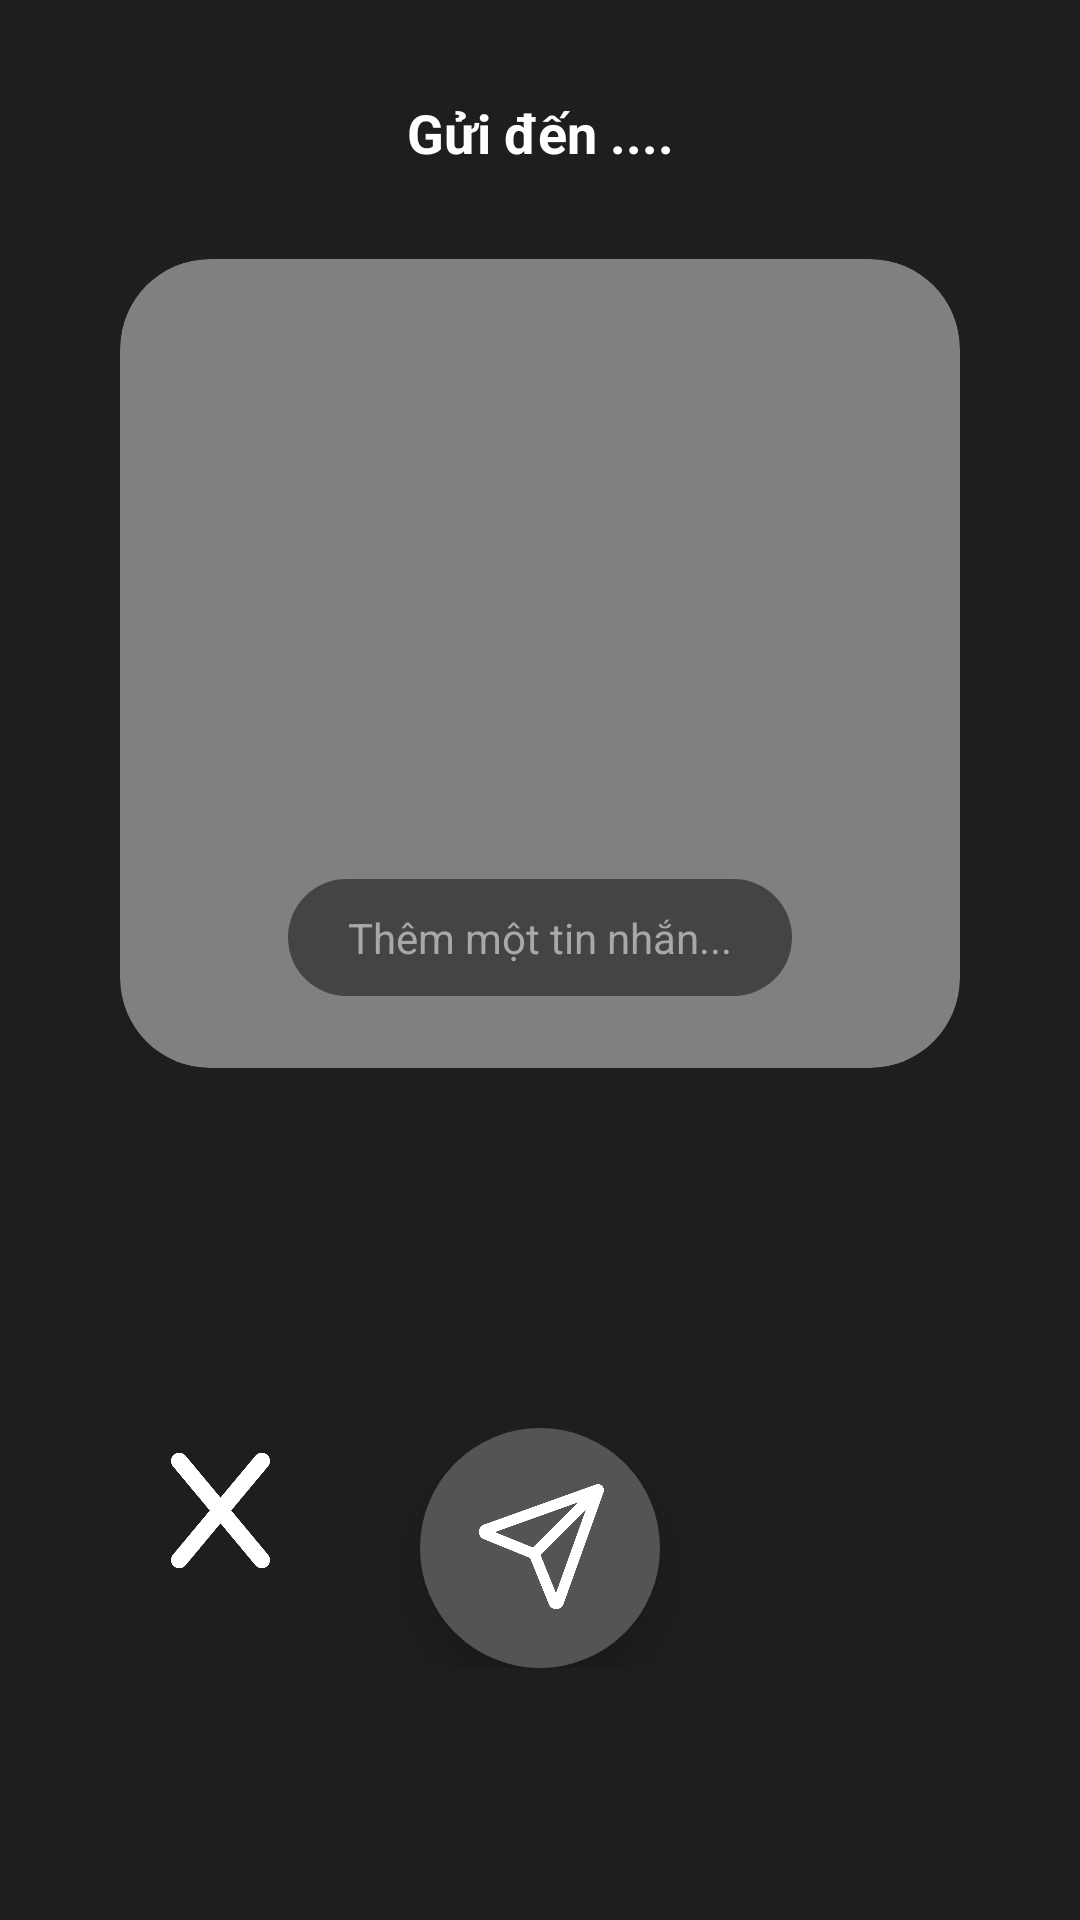

Icons on this 1080px×1920px Android screen, each with the point to tap as [x,y]:
send: [540,1548]
